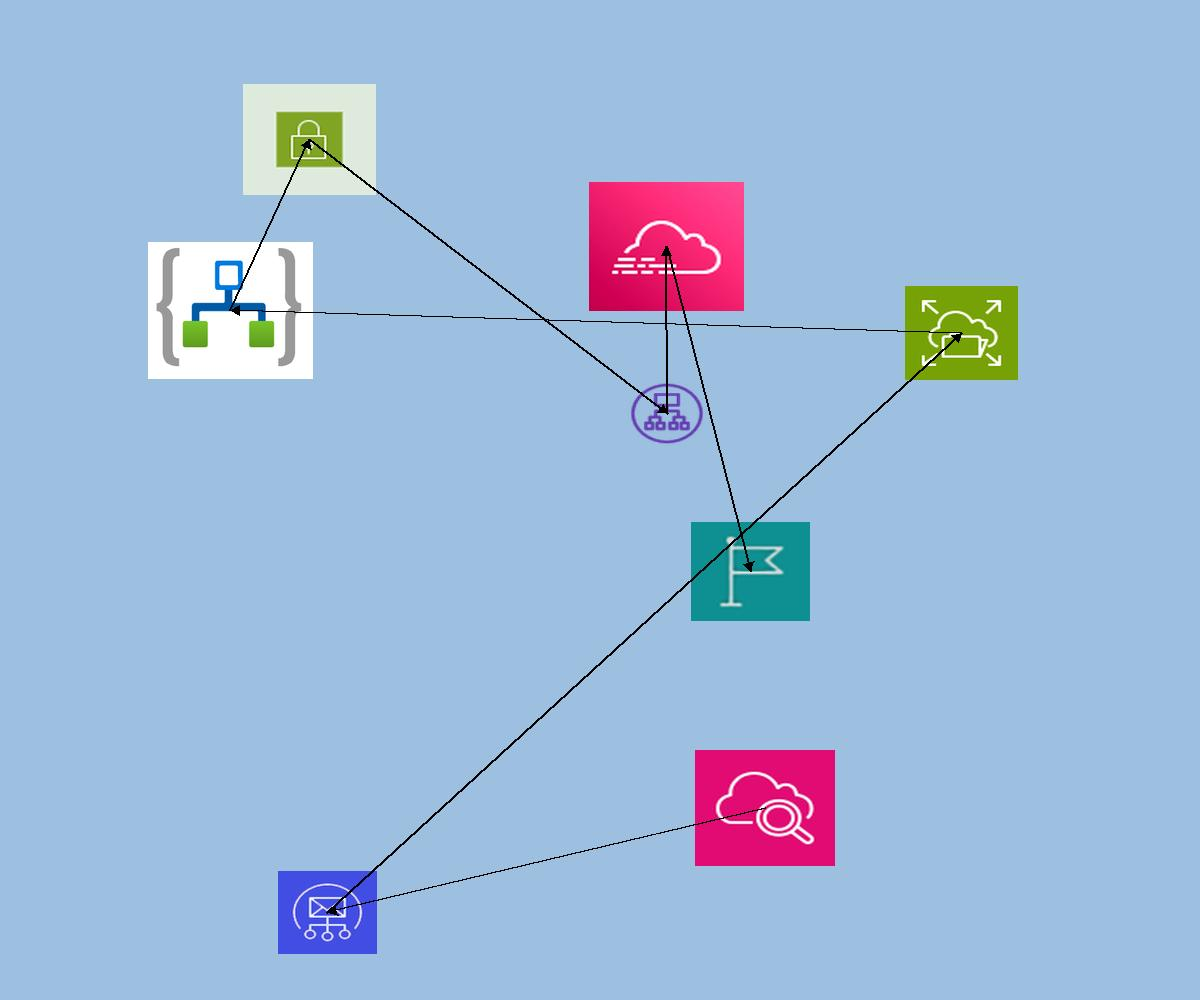AWS-CloudTrail: (589, 182, 744, 311)
AWS-CloudWatch: (695, 750, 835, 866)
AWS-EFS: (905, 286, 1018, 380)
AWS-Public-subnet: (243, 84, 376, 195)
AWS-Region: (691, 522, 810, 621)
AWS-Res_Elastic-Load-Balancing_Application-Load-Balancer: (628, 381, 706, 446)
AWS-Simple-Email-Service: (278, 871, 377, 954)
Azure_integration-204-Logic-Apps: (148, 242, 313, 379)
